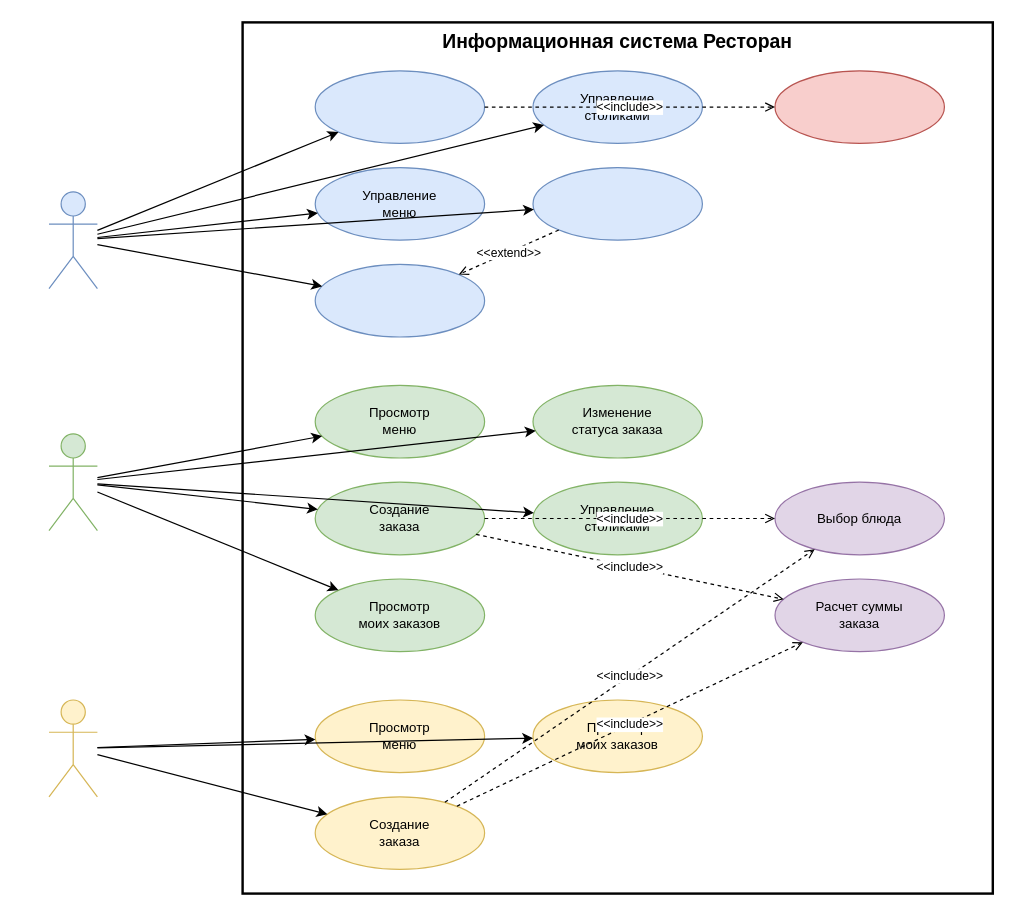
Some shapes in this 1015 by 915 pixel diagram are drawn without their labels. Here are the shapes that lost their labels. From the top down, the box of each, then its label:
(314, 70, 485, 143): Управление пользователями
(774, 70, 944, 143): Авторизация
(532, 166, 702, 240): Просмотр всех заказов
(48, 191, 97, 289): Администратор
(314, 263, 485, 337): Просмотр статистики
(48, 433, 97, 531): Официант
(48, 699, 97, 797): Клиент
